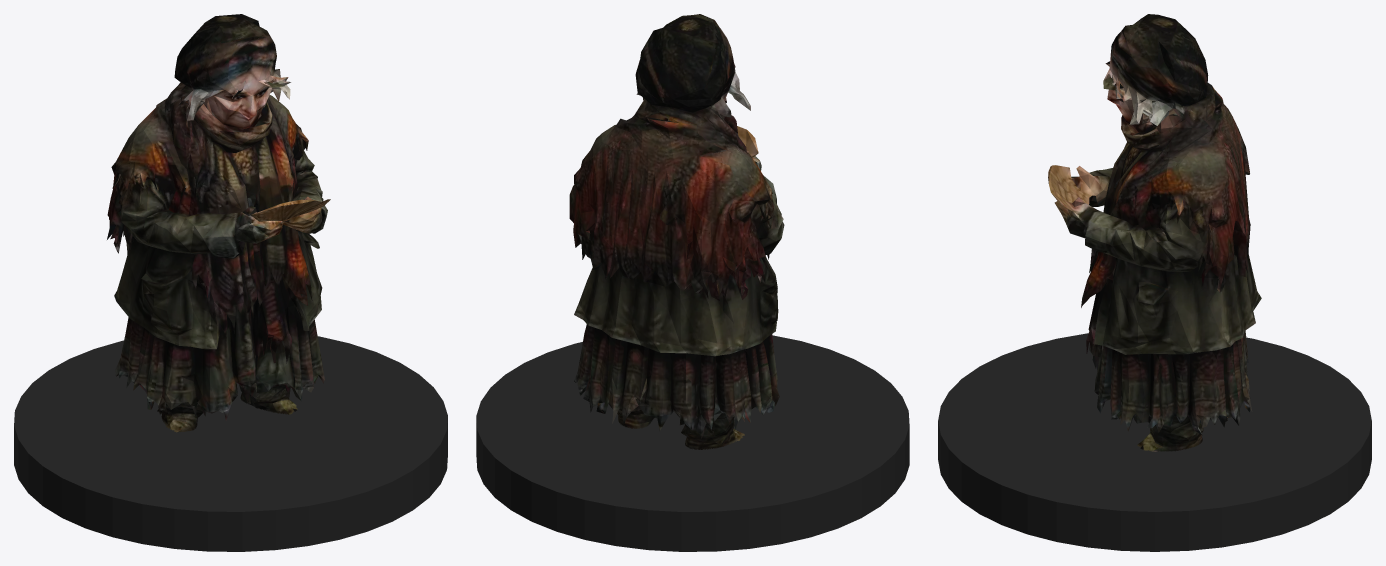
The model's file is talia-jones.glb.
3 renders of one model, left to right at view 1: azimuth 30°, elevation 25°; view 2: azimuth 150°, elevation 25°; view 3: azimuth 270°, elevation 25°, orthographic.
Visible parts, largest first — view 1: figure, base; view 2: figure, base; view 3: base, figure.
Part boxes in pixels (x1=…): figure: x1=107, y1=14, x2=330, y2=432; base: x1=14, y1=336, x2=447, y2=551; figure: x1=569, y1=14, x2=784, y2=449; base: x1=476, y1=335, x2=909, y2=551; base: x1=938, y1=333, x2=1371, y2=551; figure: x1=1048, y1=14, x2=1261, y2=451.
Bounding box in the file's own units: 1.18 × 1.32 × 1.18.
2 materials, 1 textured.
